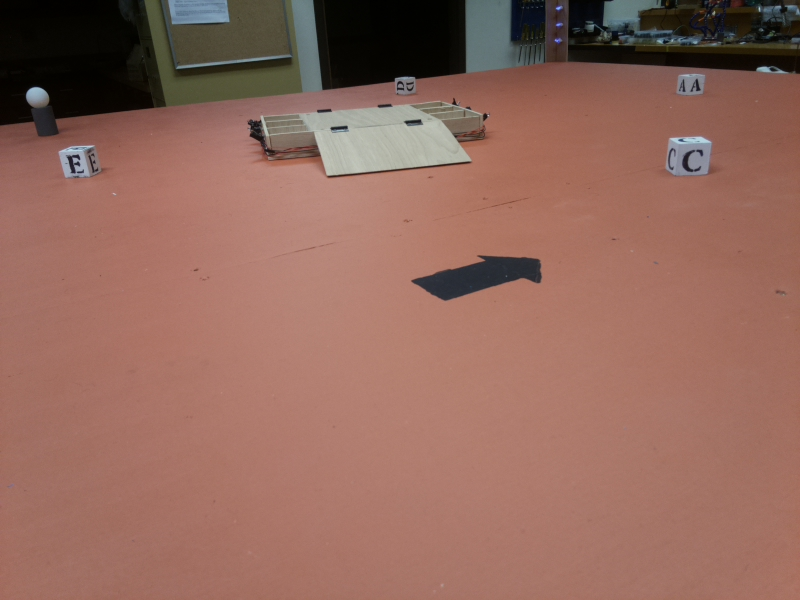blockA: (675, 72, 706, 97)
blockC: (662, 136, 716, 176)
blockD: (391, 75, 417, 95)
blockE: (55, 142, 100, 179)
obstacle: (21, 86, 63, 138)
side: (244, 115, 271, 159), (452, 100, 488, 121)
slope: (314, 120, 471, 182)
start: (408, 253, 542, 301)
